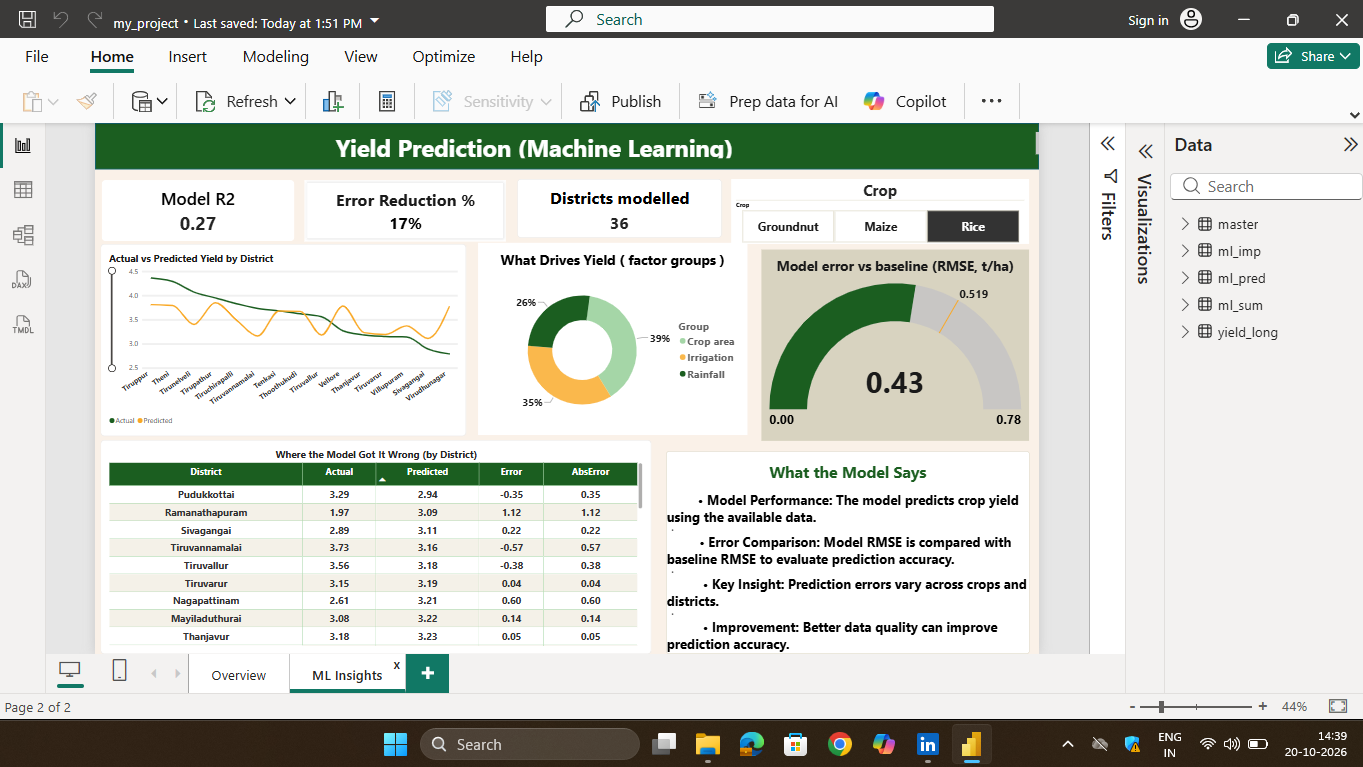

Layout of this report page (visuals, bound fields, positions):
{"tool":"powerbi","page":{"name":"ML Insights","canvas":[1920,1080],"ordinal":1},"visuals":[{"type":"shape","box":[0,0,1921.1,94.3],"z":0},{"type":"textbox","box":[0,17.8,1921.1,53.5],"z":1000},{"type":"kpi","title":"Districts modelled ","fields":{"Indicator":["ml_sum.Districts modelled"],"TrendLine":["ml_sum.Crop"]},"box":[858.5,115,415.8,119.8],"z":2000},{"type":"cardVisual","fields":{"Data":["ml_sum.Model R2"]},"box":[12.7,117.2,392.4,124.8],"z":3000},{"type":"lineChart","title":" Actual vs Predicted Yield by District","fields":{"Category":["ml_pred.District"],"Y":["Sum(ml_pred.Actual)","Sum(ml_pred.Predicted)"]},"box":[12.2,247,743.5,391.3],"z":4000},{"type":"donutChart","title":"What Drives Yield ( factor groups )","fields":{"Category":["ml_imp.Group"],"Y":["Sum(ml_imp.Importance)"]},"box":[780.2,244.6,547.9,391.3],"z":5000},{"type":"gauge","title":"Model error vs baseline (RMSE, t/ha)","fields":{"MaxValue":["ml_sum.Gauge Max"],"TargetValue":["ml_sum.Baseline RMSE"],"Y":["ml_sum.Model RMSE"]},"box":[1355.6,256.7,544.4,388.9],"z":6000},{"type":"tableEx","title":"Where the Model Got It Wrong (by District)","fields":{"Values":["ml_pred.District","Sum(ml_pred.Actual)","Sum(ml_pred.Predicted)","Sum(ml_pred.Error)","Sum(ml_pred.AbsError)"]},"box":[12.2,645.7,1120.2,435.4],"z":7000},{"type":"textbox","box":[1161.8,667.5,738.9,412.7],"z":8000},{"type":"cardVisual","fields":{"Data":["ml_sum.Error Reduction %"]},"box":[425.5,117.2,410.2,124.8],"z":9000},{"type":"slicer","title":"Crop","fields":{"Values":["ml_sum.Crop"]},"box":[1294.3,114.7,606.4,132.5],"z":10000}]}

Visuals, with their boxes on the page's 1920x1080 design canvas (x1, y1, x2, y2). These are canvas units, not pixel positions in the 1363x767 screenshot, which may show the page scaled, cropped or inside an application window:
shape: box=[0, 0, 1921, 94]
textbox: box=[0, 18, 1921, 71]
"Districts modelled " kpi: box=[858, 115, 1274, 235]
cardVisual - ml_sum.Model R2: box=[13, 117, 405, 242]
" Actual vs Predicted Yield by District" lineChart: box=[12, 247, 756, 638]
"What Drives Yield ( factor groups )" donutChart: box=[780, 245, 1328, 636]
"Model error vs baseline (RMSE, t/ha)" gauge: box=[1356, 257, 1900, 646]
"Where the Model Got It Wrong (by District)" tableEx: box=[12, 646, 1132, 1081]
textbox: box=[1162, 668, 1901, 1080]
cardVisual - ml_sum.Error Reduction %: box=[426, 117, 836, 242]
"Crop" slicer: box=[1294, 115, 1901, 247]
